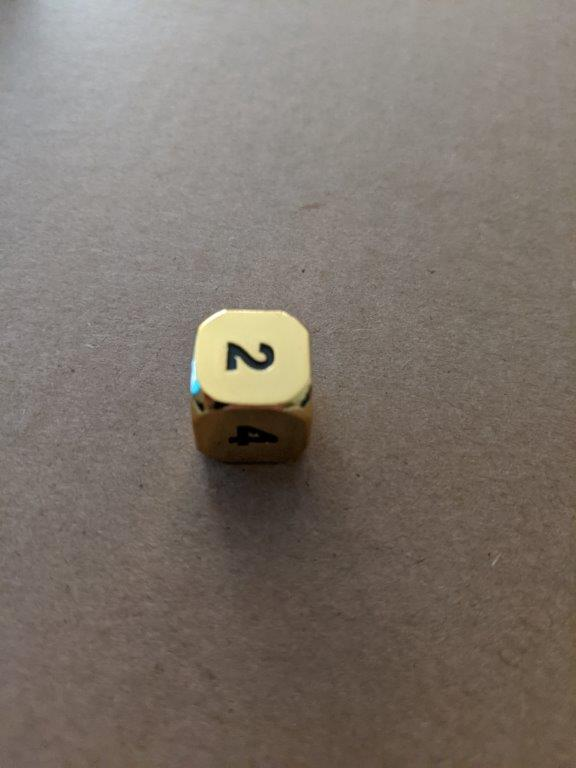d6-2: (186, 308, 318, 470)
